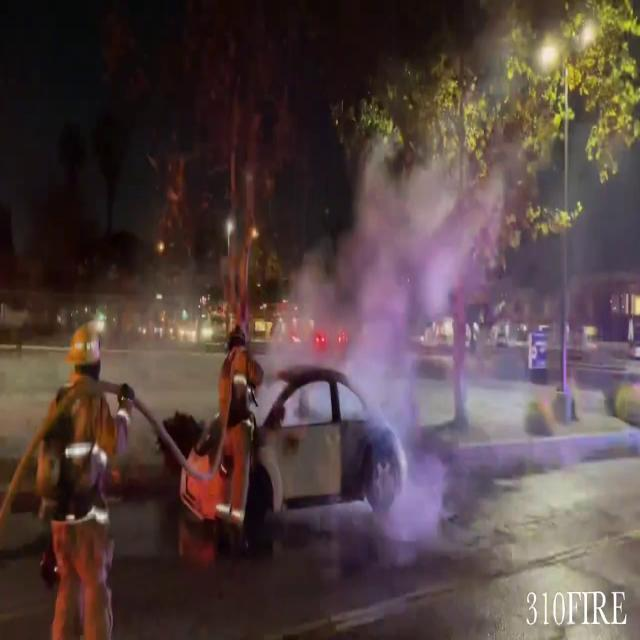Smoke: (278, 115, 510, 431)
